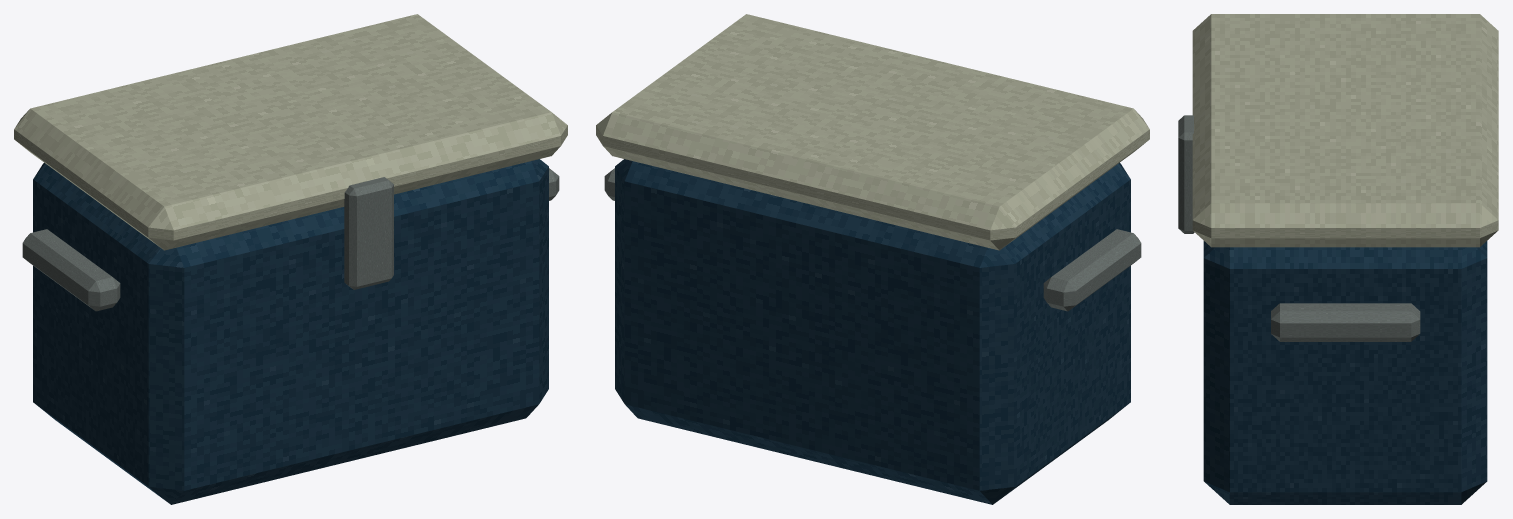
The model's file is level_camp_cooler.glb.
3 views of the same model, side by side, from view 1: azimuth 30°, elevation 25°; view 2: azimuth 150°, elevation 25°; view 3: azimuth 270°, elevation 25° (orthographic).
Parts seen in each view (by area): view 1: level_camp_cooler; view 2: level_camp_cooler; view 3: level_camp_cooler.
Boxes of the visible parts, x1,y1,x2,y2 form: level_camp_cooler: [14, 14, 567, 504]; level_camp_cooler: [596, 14, 1149, 504]; level_camp_cooler: [1178, 14, 1498, 504].
Bounding box in the file's own units: 0.73 × 0.4575 × 0.429.
3 materials, 3 textured.
